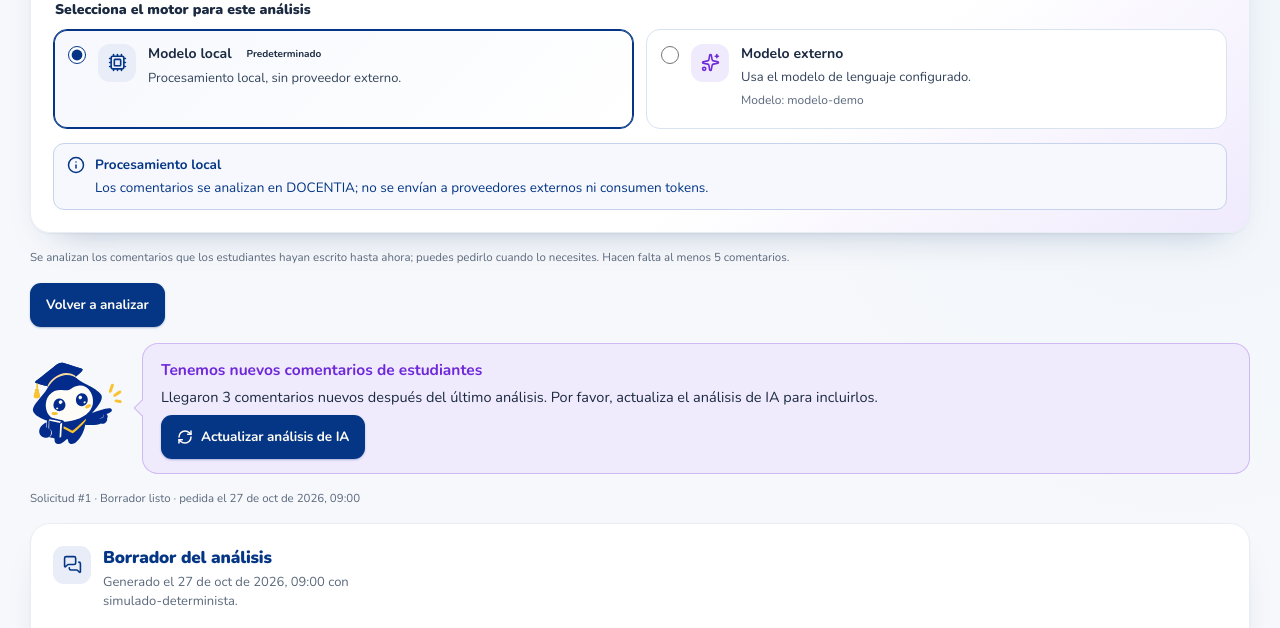
Scenario: Analisis › con comentarios nuevos pide actualizar el análisis y lo actualiza sin escribir motivo
The image size is (1280, 628).
(page scrolled)
Expected: the text "Tenemos nuevos comentarios de estudiantes" is shown, [161,358,482,380]
Expected: the text "Por favor, actualiza el análisis de IA" is shown, [368,387,878,407]
Click the button "Actualizar análisis de IA" at coordinates (263, 436), box [161,414,365,458]
(page scrolled)
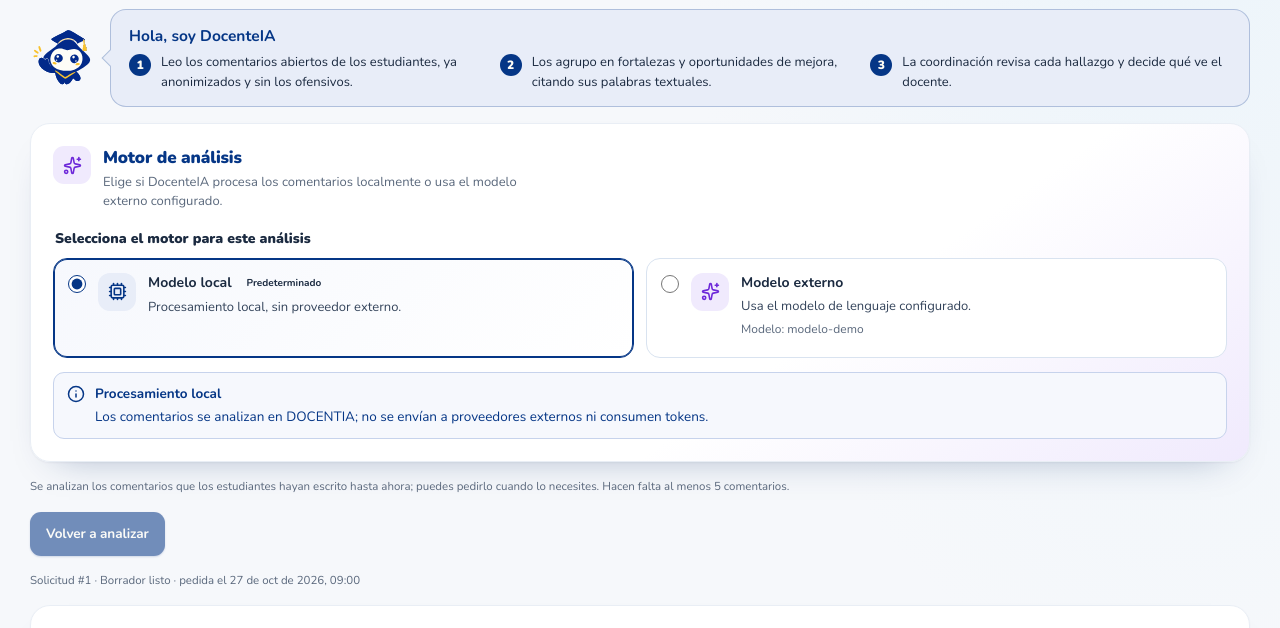
Now the text "Tenemos nuevos comentarios de estudiantes" is gone
